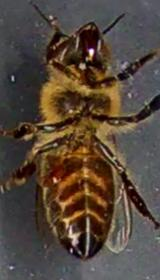varroa_mite: (44, 153, 68, 192)
